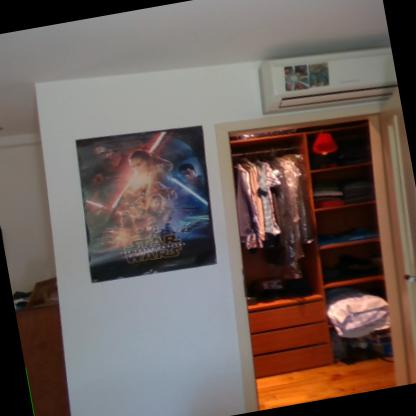open: (193, 80, 415, 413)
